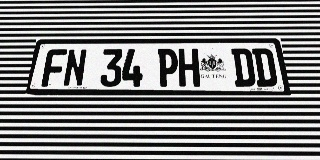3: (100, 49, 123, 87)
4: (121, 49, 143, 87)
D: (252, 48, 278, 87), (231, 48, 256, 87)
F: (41, 49, 67, 87)
H: (178, 49, 200, 87)
N: (62, 49, 87, 87)
P: (157, 49, 178, 87)
